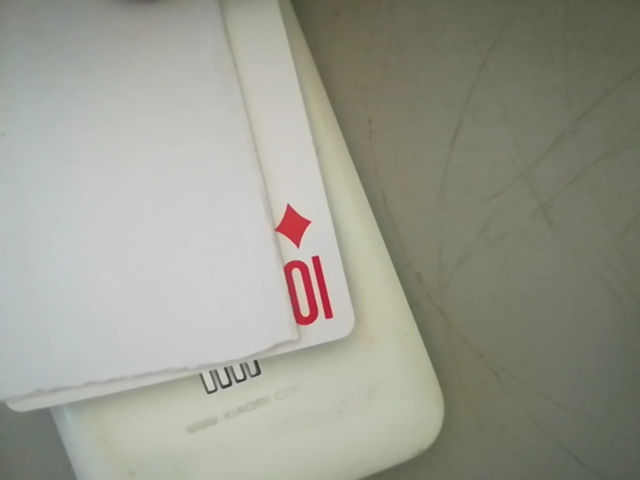fk 10: (261, 196, 348, 338)
